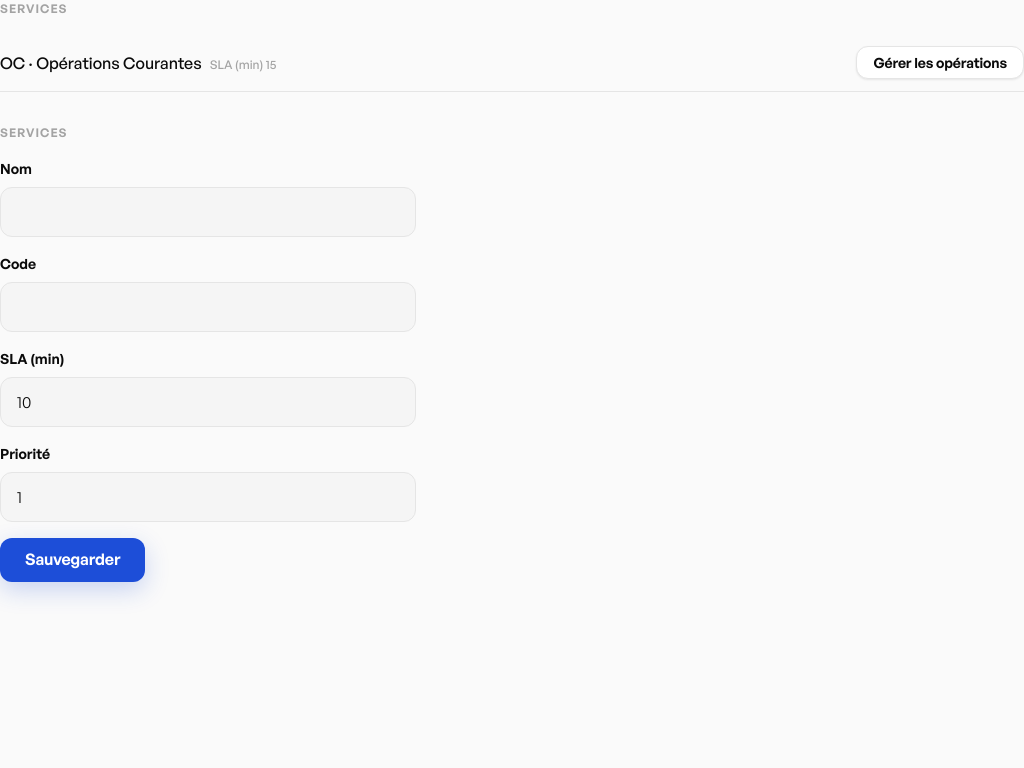
Test case: ServicesSection — sous-gestion par service › MODEL-WEB-A: « Gérer les opérations » déplie la sous-gestion + charge les opérations
Click the button with test id "manage-operations-svc-1" at (940, 63), box [856,46,1023,79]
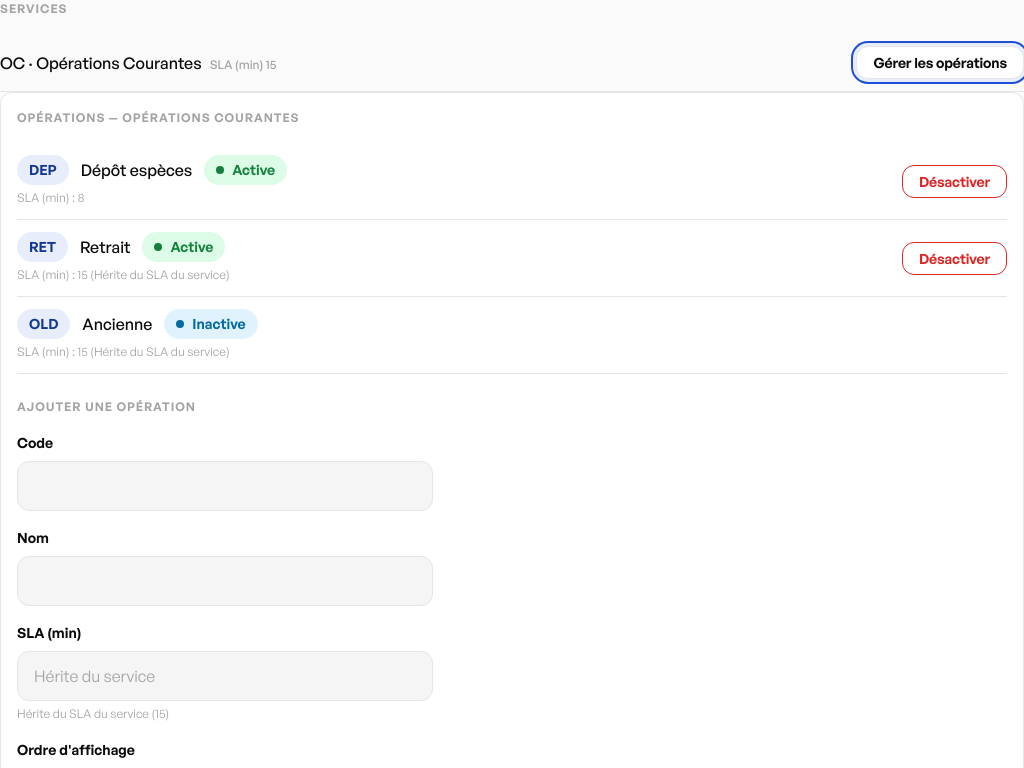
expect the list item with test id "operation-row-op-1" is shown: met, box [17,143,1007,220]
